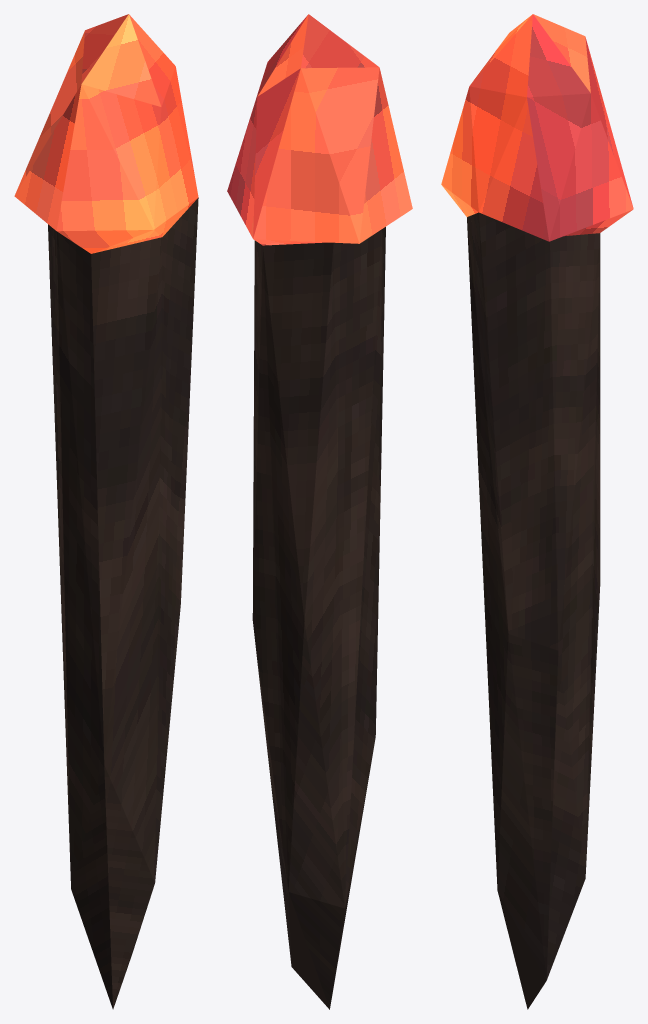
The model's file is torch_model.gltf.
3 views of the same model, side by side, from view 1: azimuth 30°, elevation 25°; view 2: azimuth 150°, elevation 25°; view 3: azimuth 270°, elevation 25° (orthographic).
Parts seen in each view (by area): view 1: Icosphere; view 2: Icosphere; view 3: Icosphere.
Boxes of the visible parts, bbox=[...] form: Icosphere: bbox=[14, 14, 198, 1009]; Icosphere: bbox=[227, 14, 412, 1009]; Icosphere: bbox=[441, 14, 633, 1009].
Bounding box in the file's own units: 0.1439 × 0.8436 × 0.1465.
2 materials, 2 textured.
